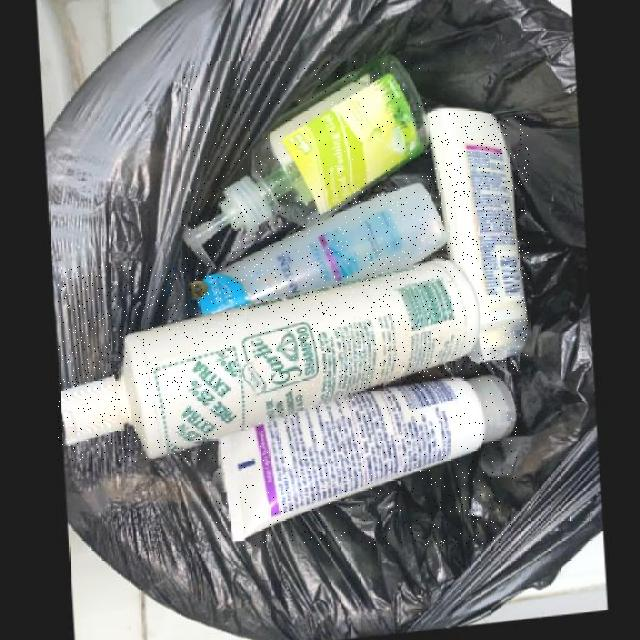plastic: (58, 266, 480, 462), (183, 61, 429, 271), (216, 381, 517, 546), (190, 189, 446, 318), (426, 114, 529, 371)
